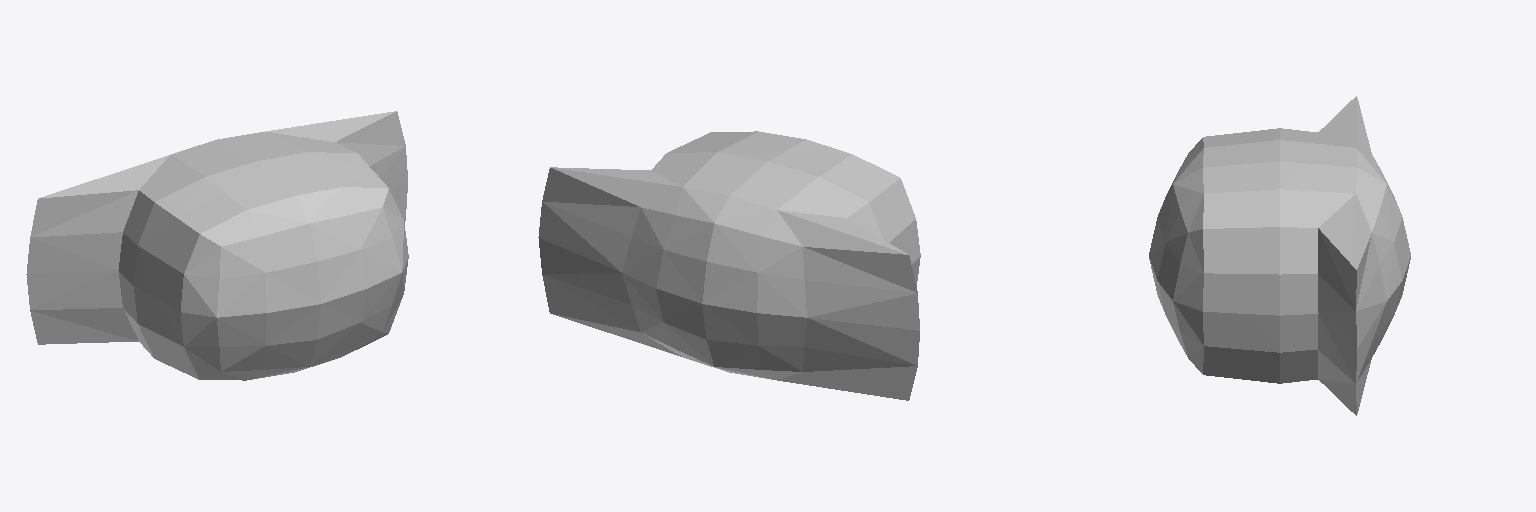
The model's file is squaremorph0.obj.
The picture shows the model from 3 angles: view 1: azimuth 30°, elevation 25°; view 2: azimuth 150°, elevation 25°; view 3: azimuth 270°, elevation 25°; orthographic projection.
Visible parts, largest first — view 1: Cube1; view 2: Cube1; view 3: Cube1.
Boxes of the visible parts, box(x1,y1,x2,y2) form: Cube1: box(26, 111, 408, 380); Cube1: box(538, 131, 920, 400); Cube1: box(1149, 96, 1410, 415).
Size of the model in its own units: 1.58 by 0.75 by 0.9432.